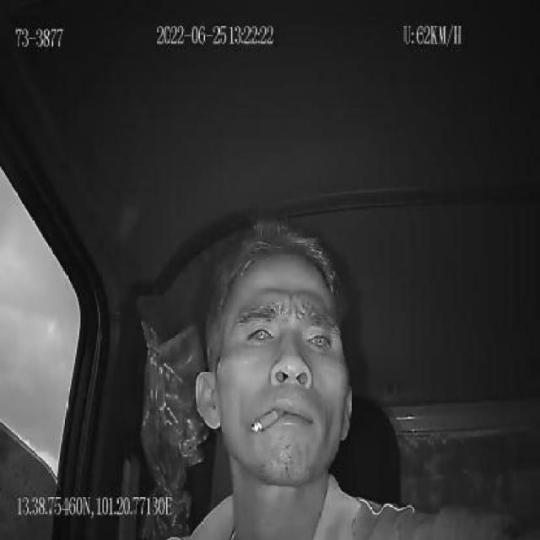smoking: (251, 409, 284, 435)
